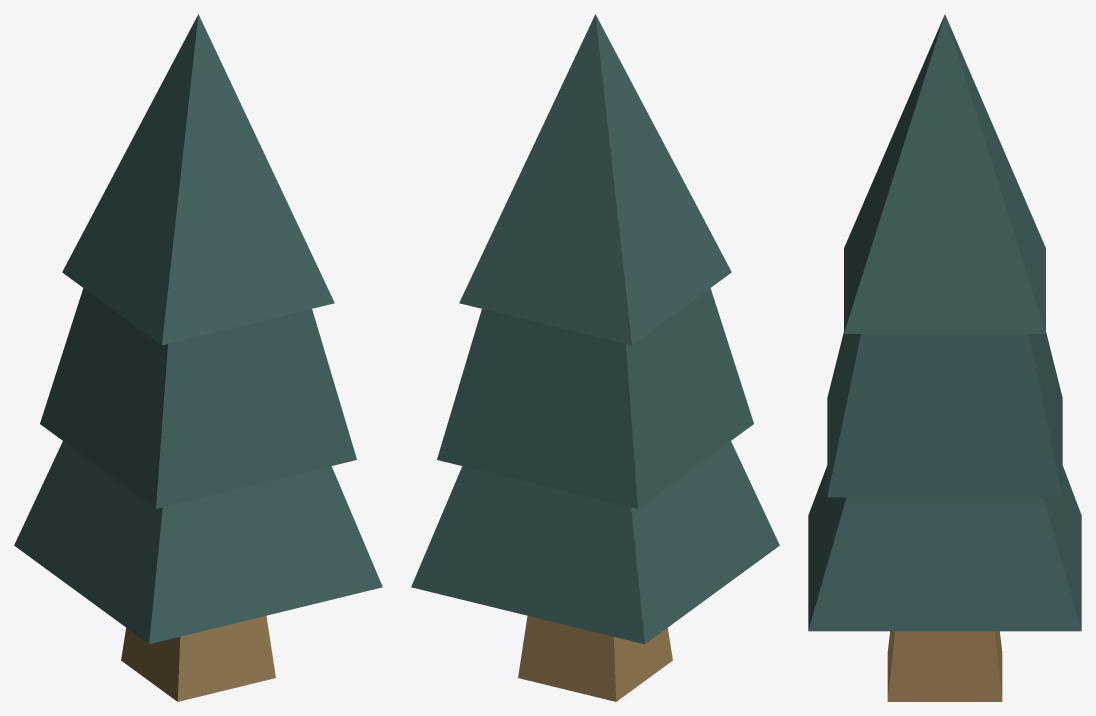
File: Tree_02.fbx
3 renders of one model, left to right at view 1: azimuth 30°, elevation 25°; view 2: azimuth 150°, elevation 25°; view 3: azimuth 270°, elevation 25°, orthographic.
Parts seen in each view (by area): view 1: Mesh1_Tree Model; view 2: Mesh1_Tree Model; view 3: Mesh1_Tree Model.
Part boxes in pixels (x1,y1,x2,y2): Mesh1_Tree Model: (14, 14, 382, 701); Mesh1_Tree Model: (411, 14, 779, 701); Mesh1_Tree Model: (808, 14, 1081, 701).
Size of the model in its own units: 2.36 by 6.32 by 2.36.
